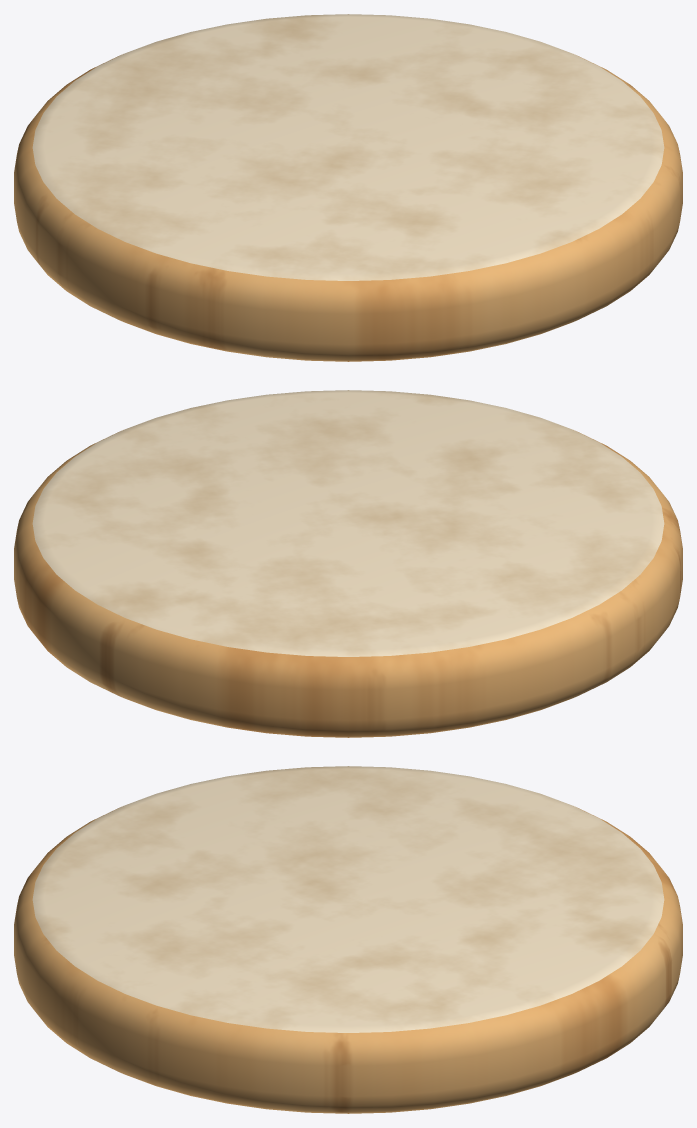
The model's file is bun_heel.glb.
3 views of the same model, one above another, from view 1: azimuth 30°, elevation 25°; view 2: azimuth 150°, elevation 25°; view 3: azimuth 270°, elevation 25° (orthographic).
Visible parts, largest first — view 1: bun_heel; view 2: bun_heel; view 3: bun_heel.
Part boxes in pixels (<box>): bun_heel: <box>14,14,682,361</box>; bun_heel: <box>14,390,682,737</box>; bun_heel: <box>14,766,682,1113</box>.
Size of the model in its own units: 1 by 0.14 by 1.
2 materials, 2 textured.
